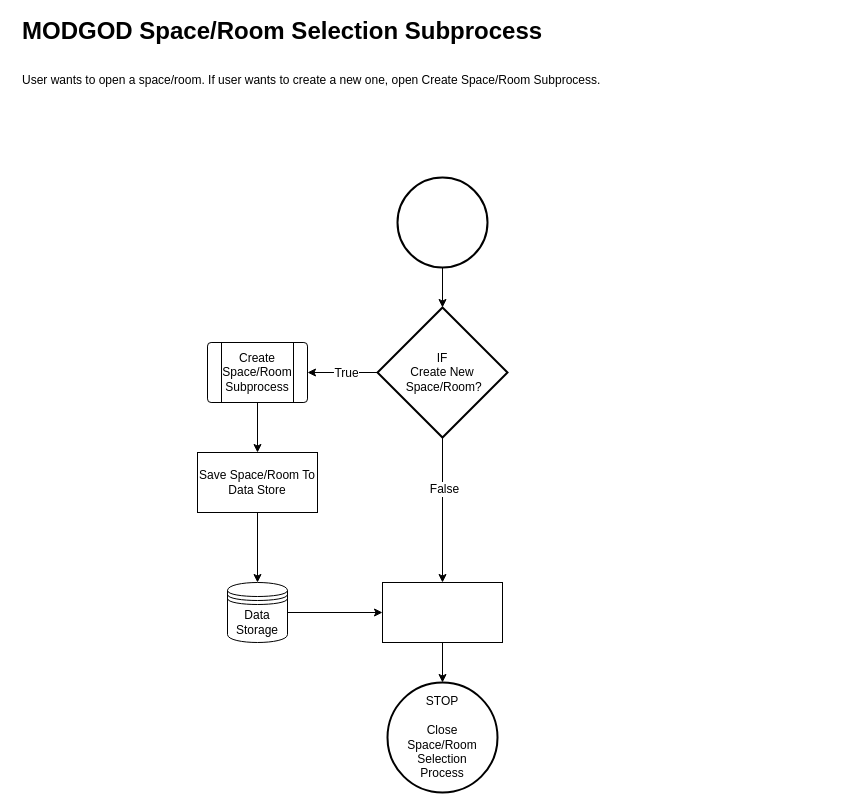
This 864x810 diagram has some shape labels left out. The centre of each missing label's shape, as x and y in pixels:
Load Space/Room From Data storage: the point at 442,612
START Open Space/Room: the point at 442,222
